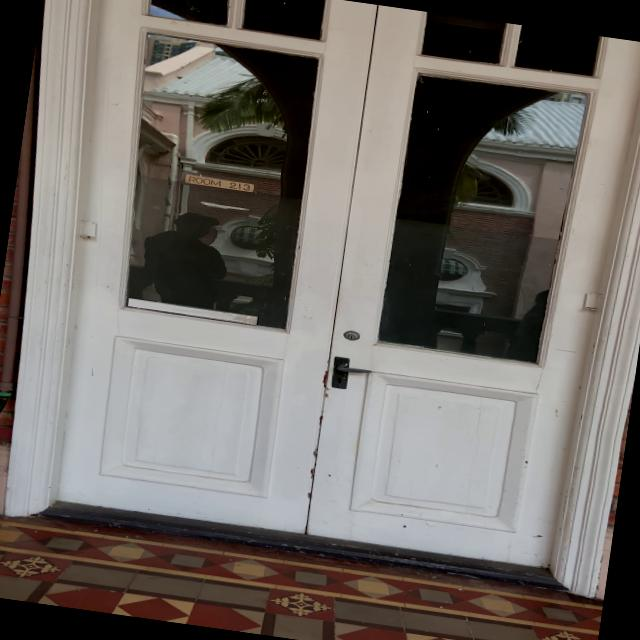room213Window: (178, 168, 264, 195)
